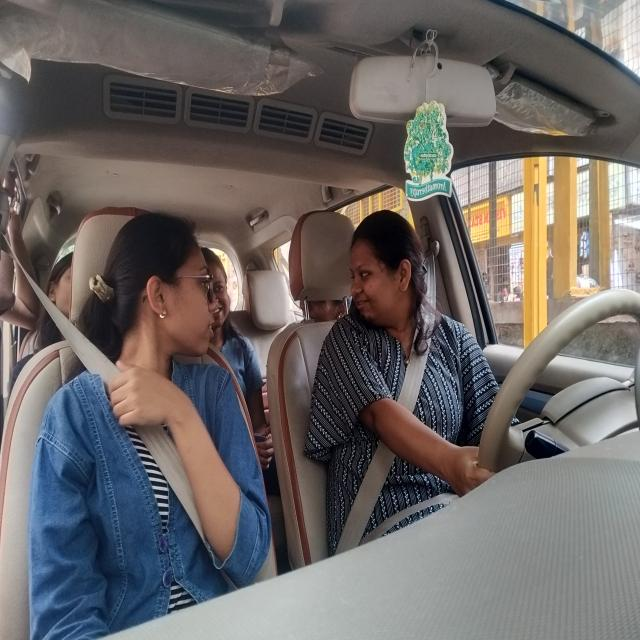LeftRight: (337, 205, 439, 358)
person: (84, 192, 234, 420), (205, 233, 250, 345), (31, 246, 78, 340)
